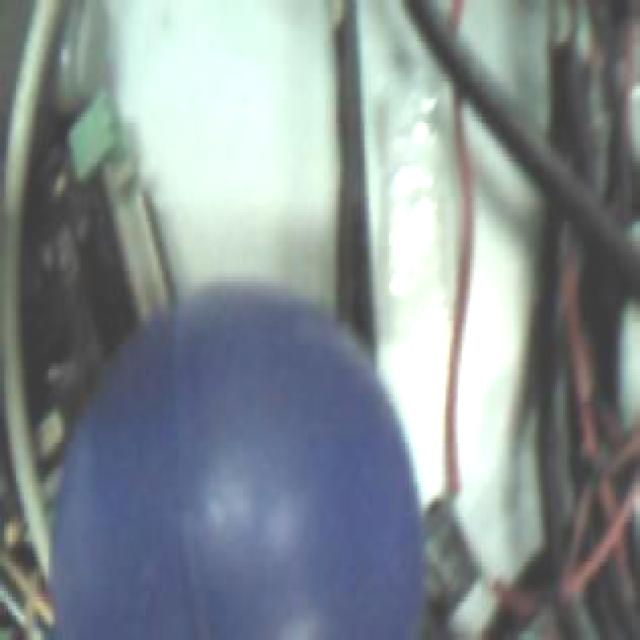BallPurple: (49, 277, 427, 640)
